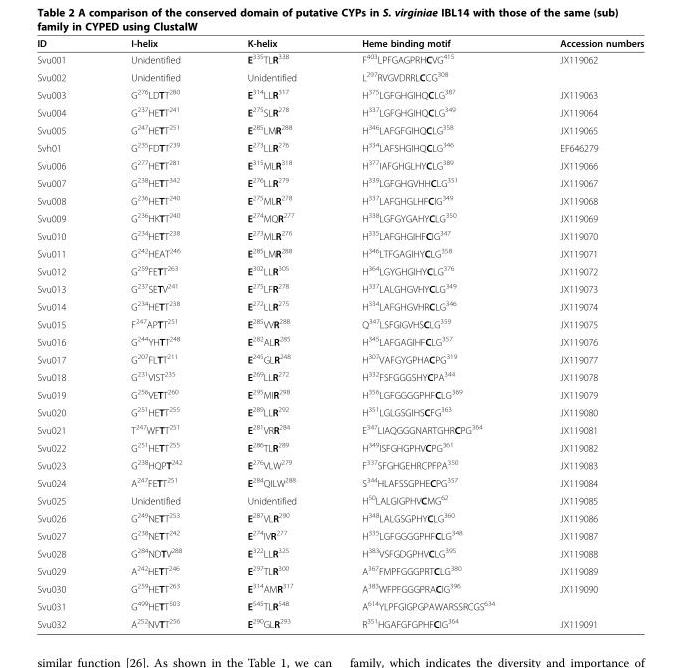table: (36, 37, 643, 629)
table column: (328, 37, 526, 629), (97, 37, 214, 629), (526, 37, 643, 629), (214, 37, 328, 629), (36, 37, 97, 629)
table column header: (36, 37, 643, 50)
table row: (36, 67, 643, 85), (36, 102, 643, 120), (36, 120, 643, 138), (36, 155, 643, 173), (36, 173, 643, 191), (36, 208, 643, 226), (36, 243, 643, 261), (36, 261, 643, 279), (36, 296, 643, 314), (36, 314, 643, 332), (36, 349, 643, 367), (36, 367, 643, 385), (36, 402, 643, 420), (36, 437, 643, 455), (36, 455, 643, 473), (36, 490, 643, 508), (36, 508, 643, 526), (36, 543, 643, 561), (36, 561, 643, 579), (36, 596, 643, 614), (36, 50, 643, 67), (36, 85, 643, 102), (36, 138, 643, 155), (36, 191, 643, 208), (36, 226, 643, 243), (36, 279, 643, 296), (36, 332, 643, 349), (36, 385, 643, 402), (36, 420, 643, 437), (36, 473, 643, 490), (36, 526, 643, 543), (36, 579, 643, 596), (36, 614, 643, 629), (36, 37, 643, 50)
